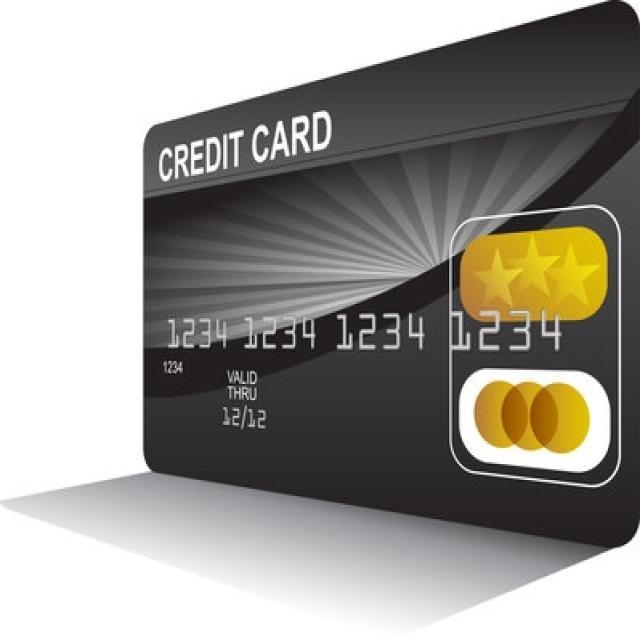payment_card: (140, 1, 639, 549)
